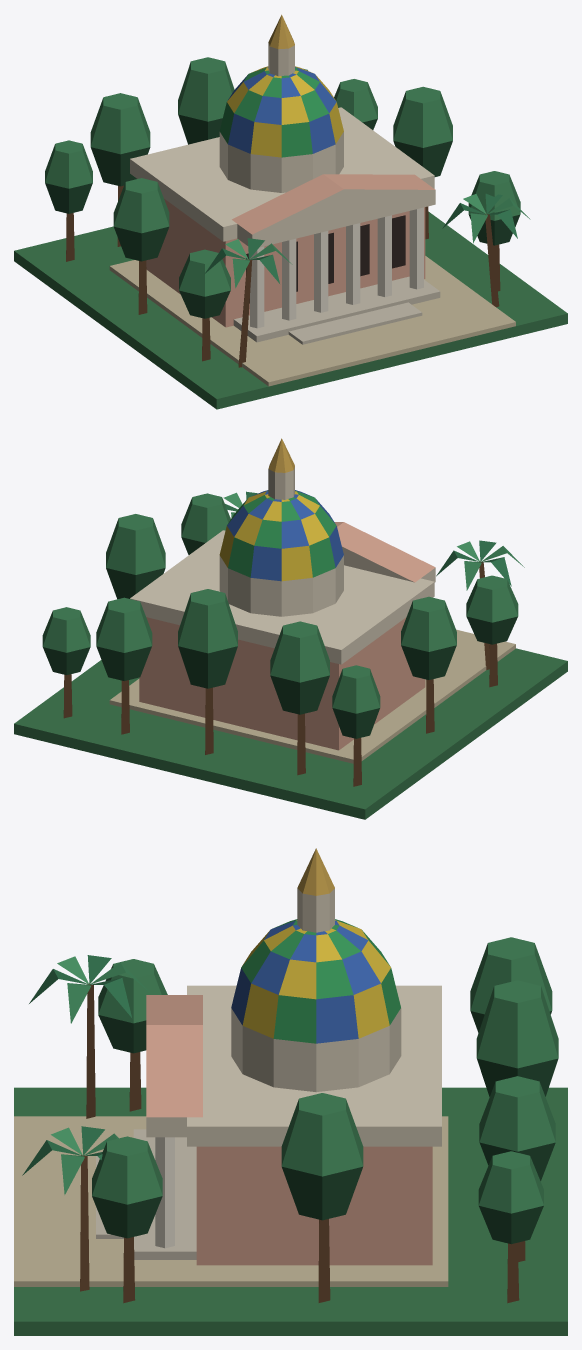
Rendered from amazonas.glb.
The picture shows the model from 3 angles, top to bottom: view 1: azimuth 30°, elevation 25°; view 2: azimuth 150°, elevation 25°; view 3: azimuth 270°, elevation 25°; orthographic projection. The views are drawn at different scales.
Parts seen in each view (by area): view 1: amazonas; view 2: amazonas; view 3: amazonas.
Boxes of the visible parts, box(x1,y1,x2,y2) form: amazonas: box(14, 14, 567, 409); amazonas: box(14, 438, 567, 819); amazonas: box(14, 848, 567, 1335).
Size of the model in its own units: 1.76 by 1.3 by 1.76.
